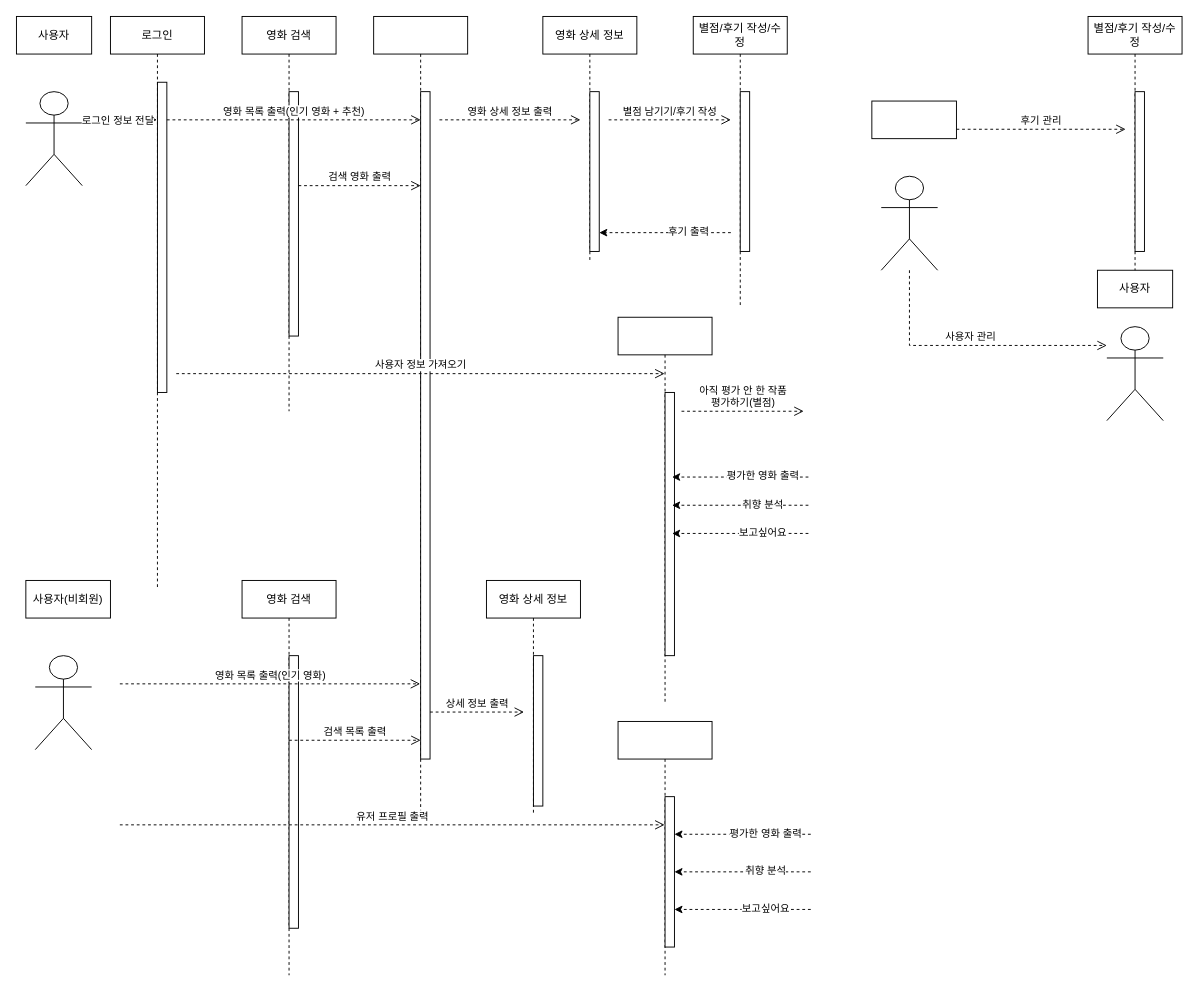
The diagram is 1199 pixels wide and 992 high, and some of its shapes have lost their labels. The centre of each missing label's shape, as x and y in pixels:
관리자: point (913, 119)
사용자 프로필: point (664, 509)
영화 목록: point (420, 415)
유저 프로필: point (664, 848)
